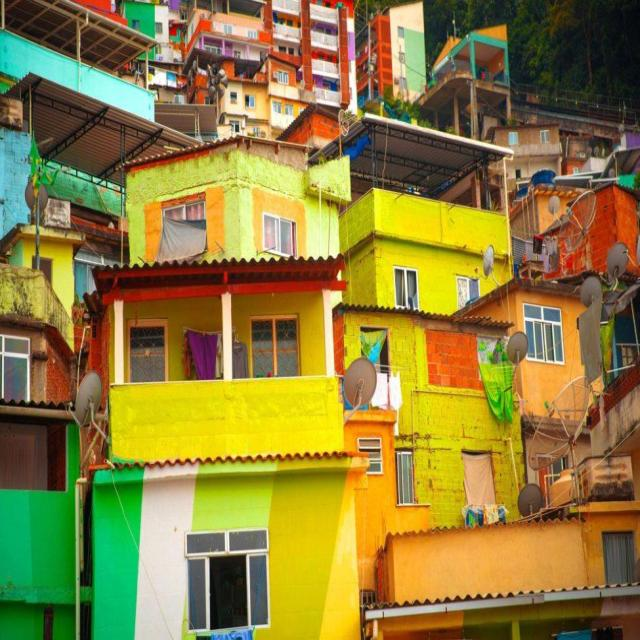Casa: (89, 137, 368, 638), (333, 304, 524, 593), (311, 114, 512, 313), (0, 265, 79, 639), (458, 280, 583, 493), (265, 0, 355, 105), (356, 0, 427, 100), (187, 0, 270, 63), (486, 124, 562, 191), (40, 215, 83, 315), (183, 47, 259, 103), (218, 74, 272, 136), (0, 223, 35, 268), (150, 68, 177, 86)
